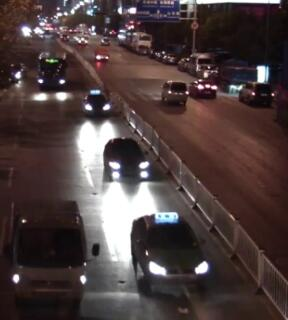bus: (38, 50, 68, 90), (123, 29, 152, 55), (116, 27, 127, 45)
car: (3, 197, 101, 310), (129, 210, 210, 293), (101, 137, 149, 181), (217, 57, 259, 93), (237, 80, 275, 107), (158, 78, 189, 107), (84, 89, 109, 118), (2, 57, 27, 84), (188, 78, 218, 100), (185, 52, 211, 72), (197, 63, 214, 80), (161, 51, 177, 66), (92, 48, 110, 61), (177, 56, 189, 72), (76, 35, 87, 46), (60, 32, 71, 43), (154, 49, 164, 61), (100, 35, 111, 45)
